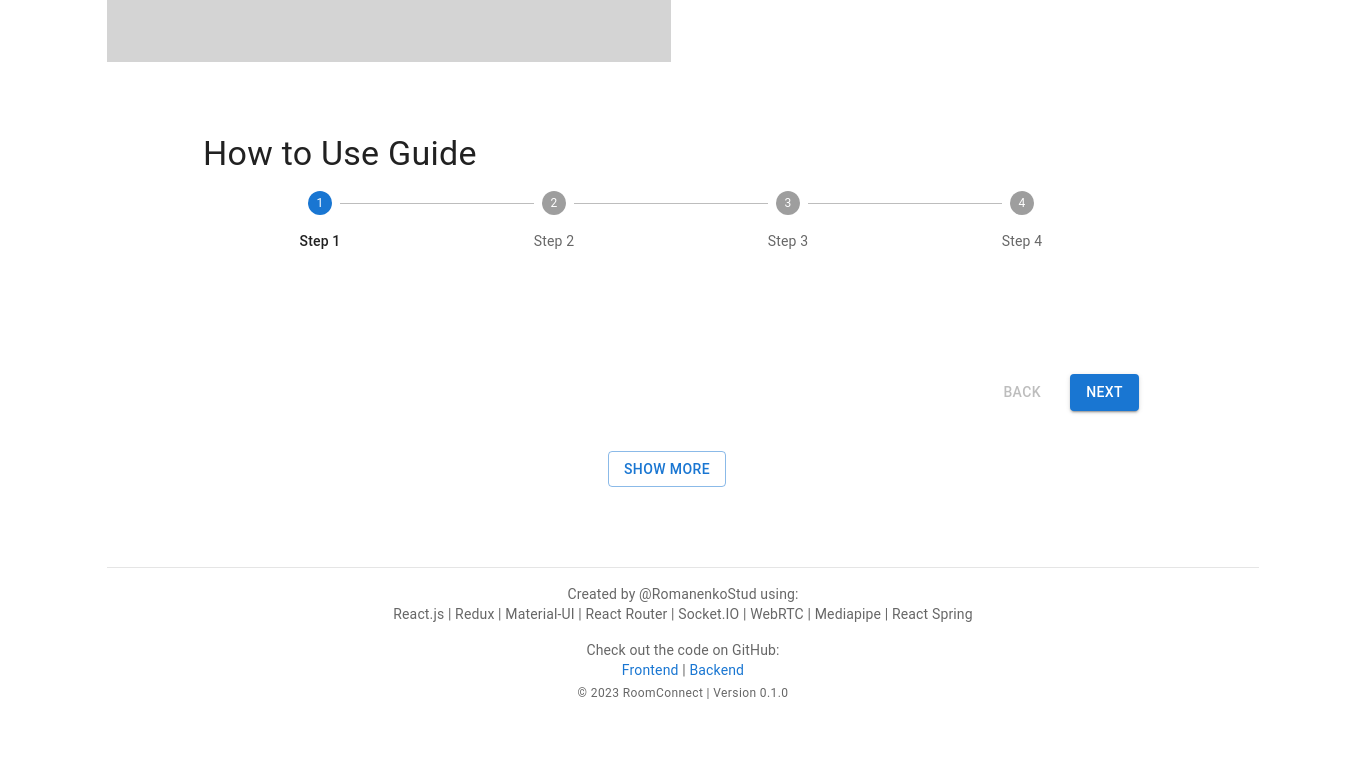
Scenario: HomeView › should show additional info when the "Show more" button is clicked
(page scrolled)
Step 1. Click the button "Show more" → [667, 469], box [608,450,726,487]
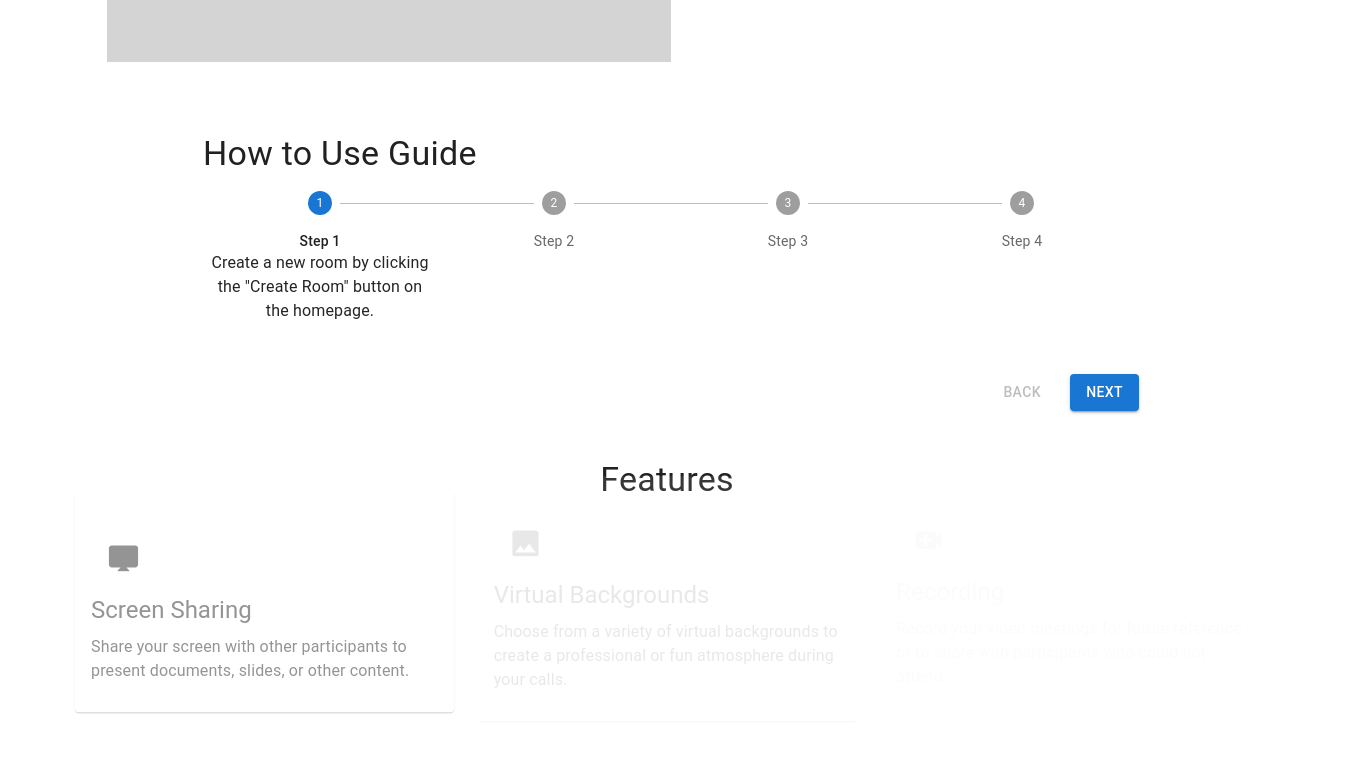
Result: the heading "Features" is shown at [600,458,734,500]
